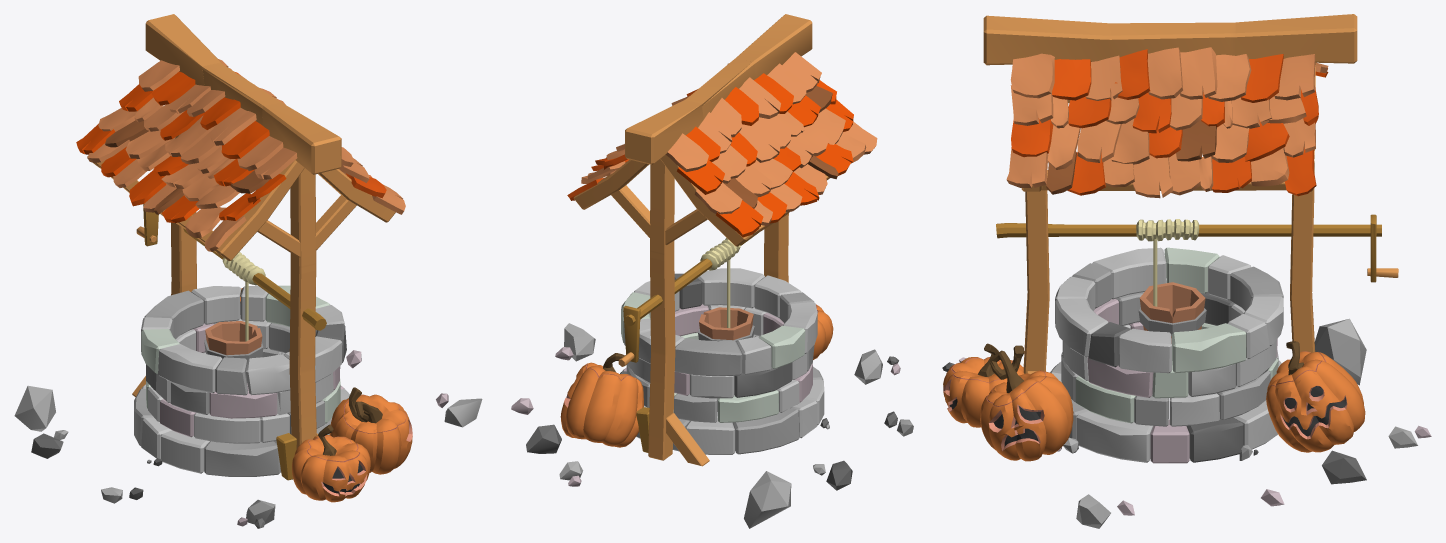
The model's file is well.glb.
3 renders of one model, left to right at view 1: azimuth 30°, elevation 25°; view 2: azimuth 150°, elevation 25°; view 3: azimuth 270°, elevation 25°, orthographic. The views are drawn at different scales.
Visible parts, largest first — view 1: Weel, Bucket; view 2: Weel, Bucket; view 3: Weel, Bucket.
Part boxes in pixels (<box>): Weel: <box>14,14,482,528</box>; Bucket: <box>204,321,263,363</box>; Weel: <box>511,14,913,528</box>; Bucket: <box>698,307,754,342</box>; Weel: <box>942,14,1431,528</box>; Bucket: <box>1138,282,1206,343</box>.
Bounding box in the file's own units: 7.86 × 7.74 × 8.01.
